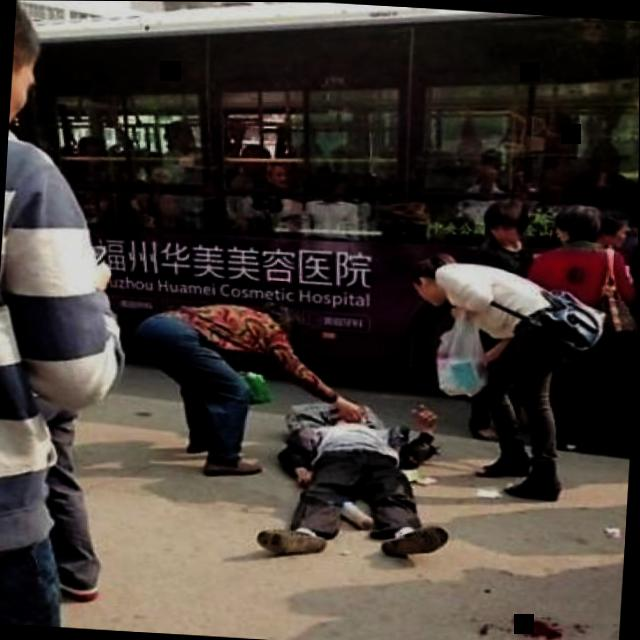Fall-Detected: (242, 371, 462, 571)
